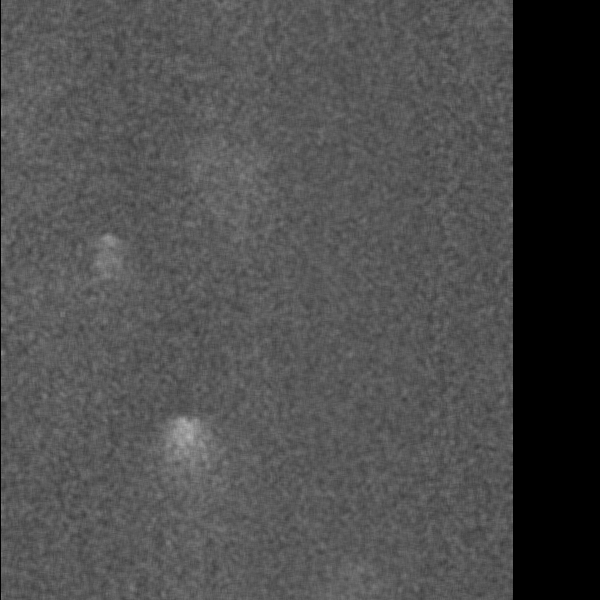spark: (440, 394, 506, 461), (447, 317, 512, 382), (358, 333, 394, 417), (472, 518, 509, 599), (404, 123, 440, 159), (128, 163, 161, 198), (22, 102, 46, 144), (357, 434, 382, 448)
